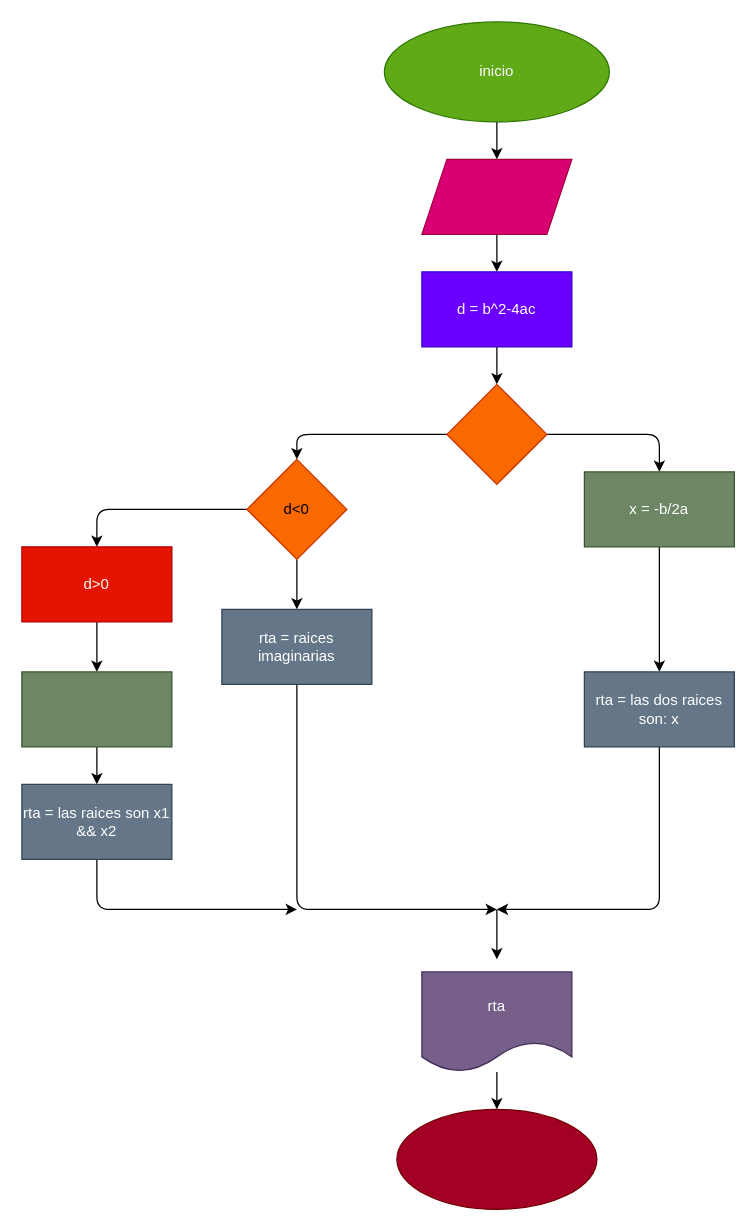
Image size: 756x1231. Some labels were removed from this diagram. Here are the shapes that lost their labels. From the top down, the centre of each, then its label:
(x=496, y=196): a b c
(x=496, y=433): d = 0
(x=96, y=709): x1 = (-b + √d)/2a x2 = (-b - √d)/2a
(x=496, y=1158): Fin
